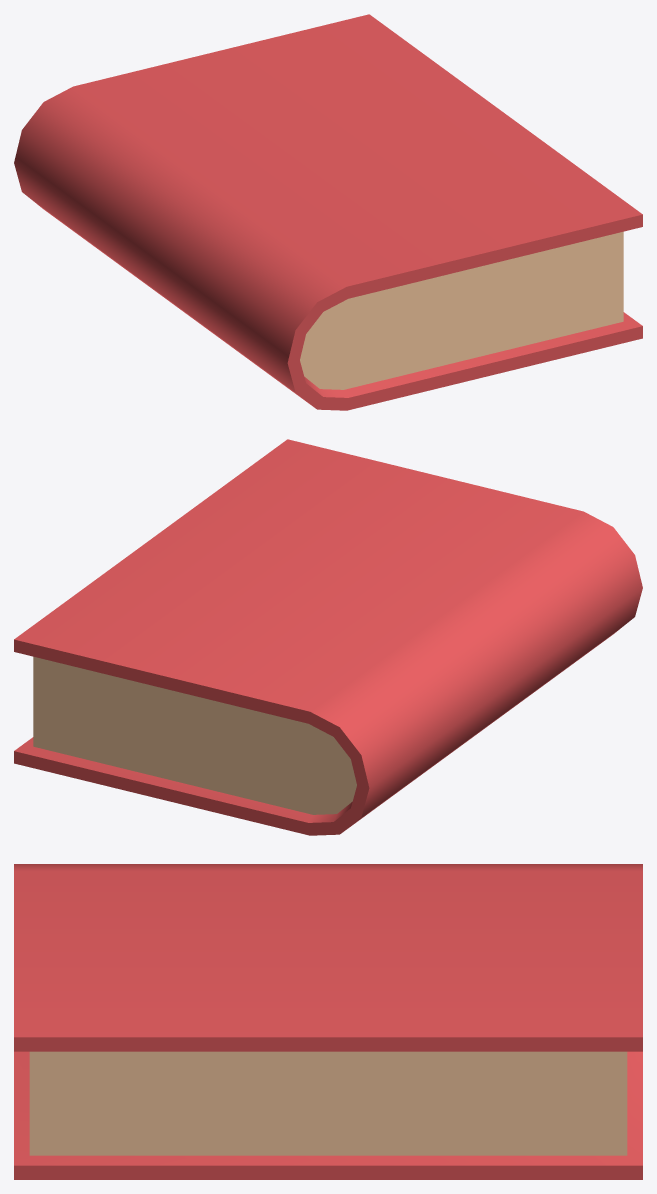
Rendered from BookRed.fbx.
3 renders of one model, top to bottom at view 1: azimuth 30°, elevation 25°; view 2: azimuth 150°, elevation 25°; view 3: azimuth 270°, elevation 25°, orthographic. The views are drawn at different scales.
Parts seen in each view (by area): view 1: Book Red; view 2: Book Red; view 3: Book Red.
Boxes of the visible parts, x1,y1,x2,y2 form: Book Red: (14,14,642,410); Book Red: (14,439,642,835); Book Red: (14,864,642,1179).
Bounding box in the file's own units: 150 × 50 × 200.
